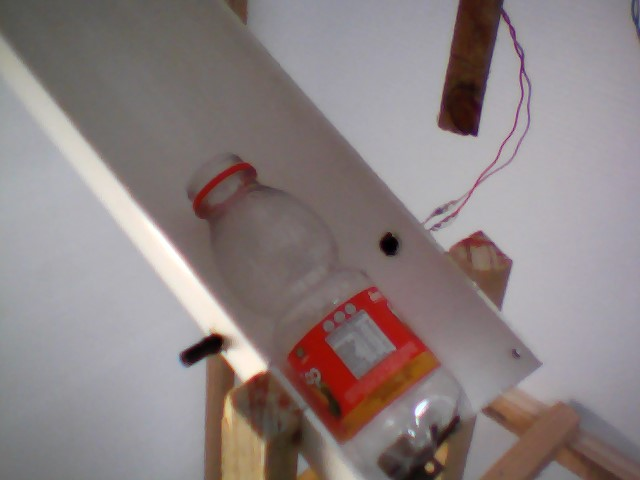plastico: (178, 151, 476, 480)
